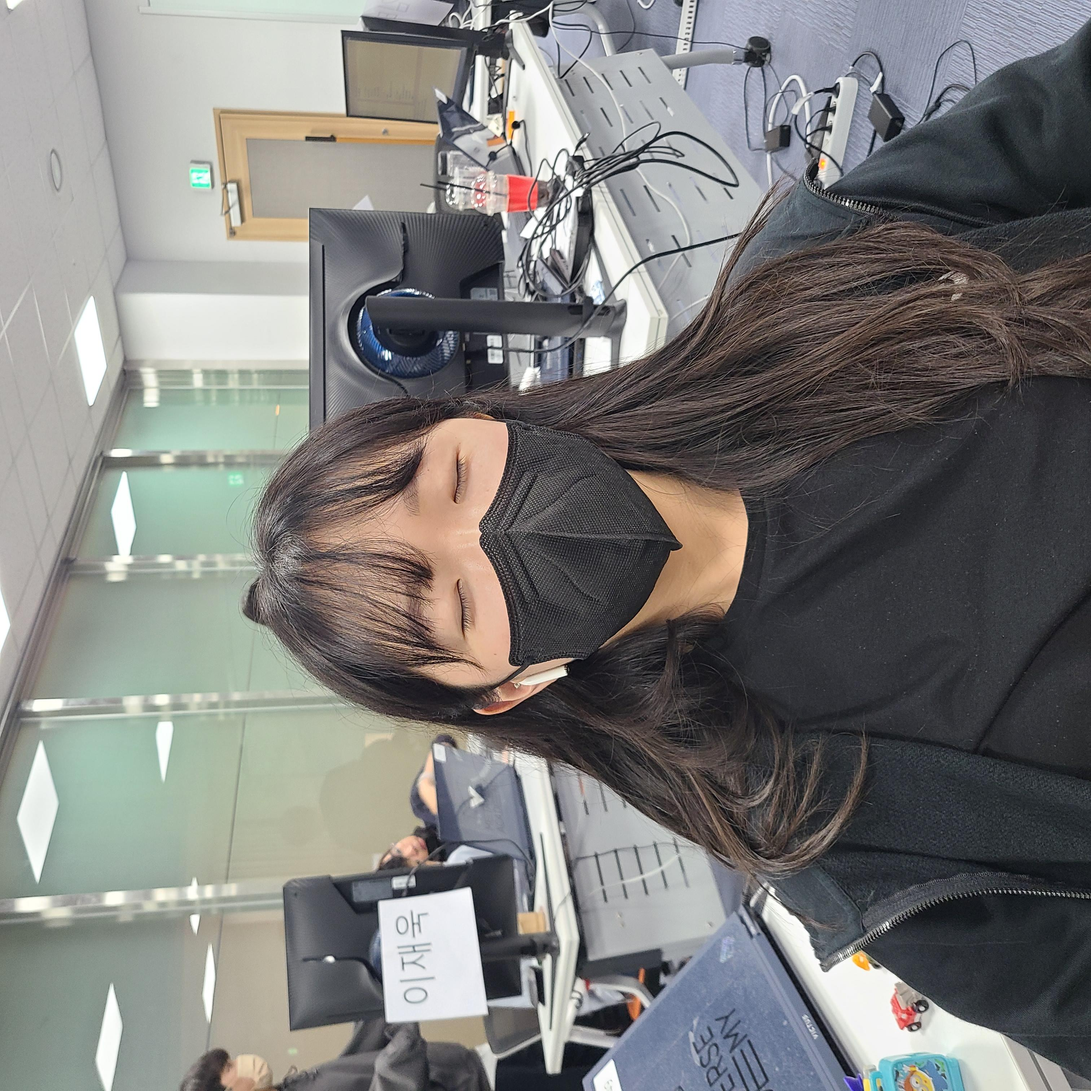earphone: (396, 507, 438, 575)
